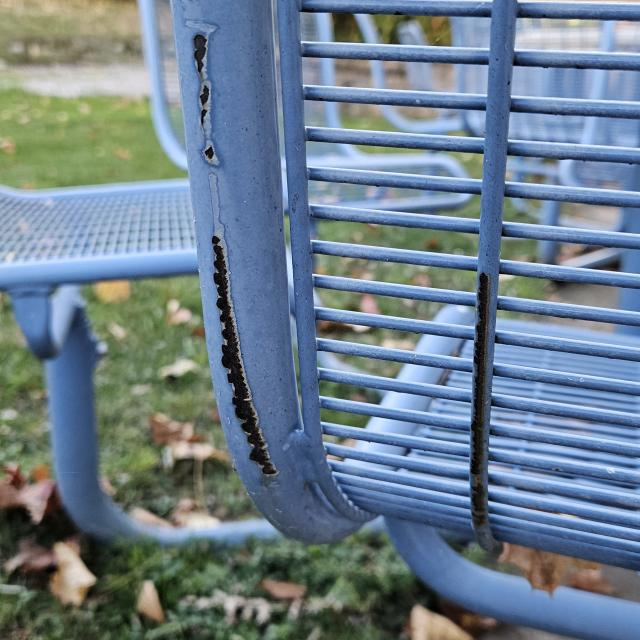Filiform Corrosion: (210, 232, 280, 480), (469, 274, 495, 534), (191, 30, 226, 170)
